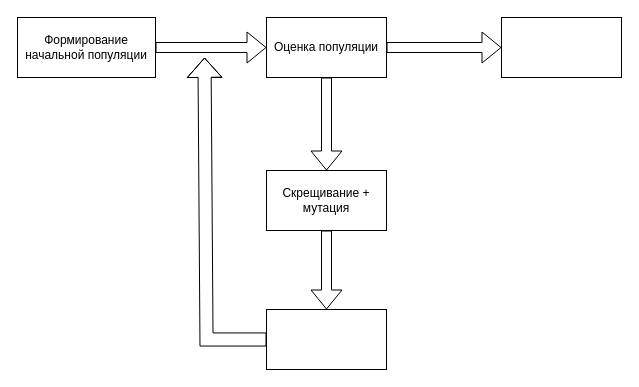
Some shapes in this 639 by 387 pixel diagram are drawn without their labels. Each missing label, with the centre of its shape:
Результат: (x=561, y=47)
Селекция: (x=326, y=339)
